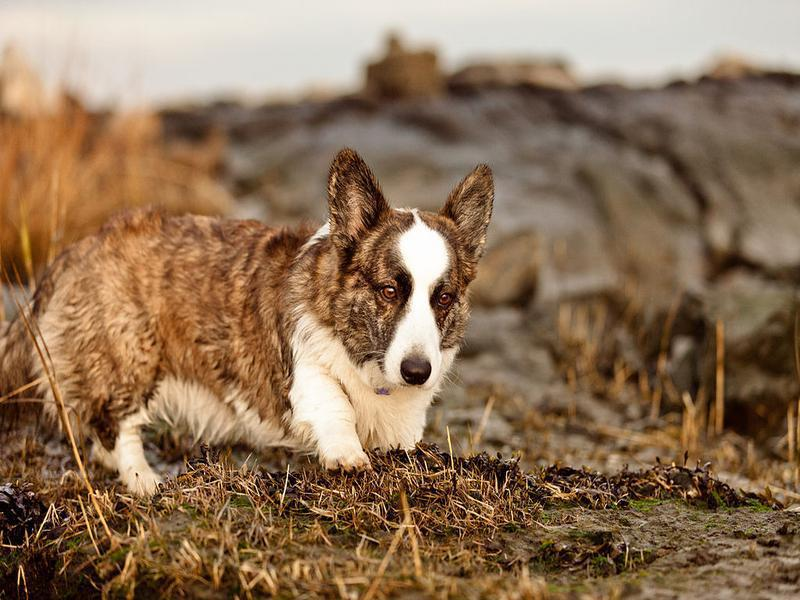corgi: (322, 148, 498, 386)
